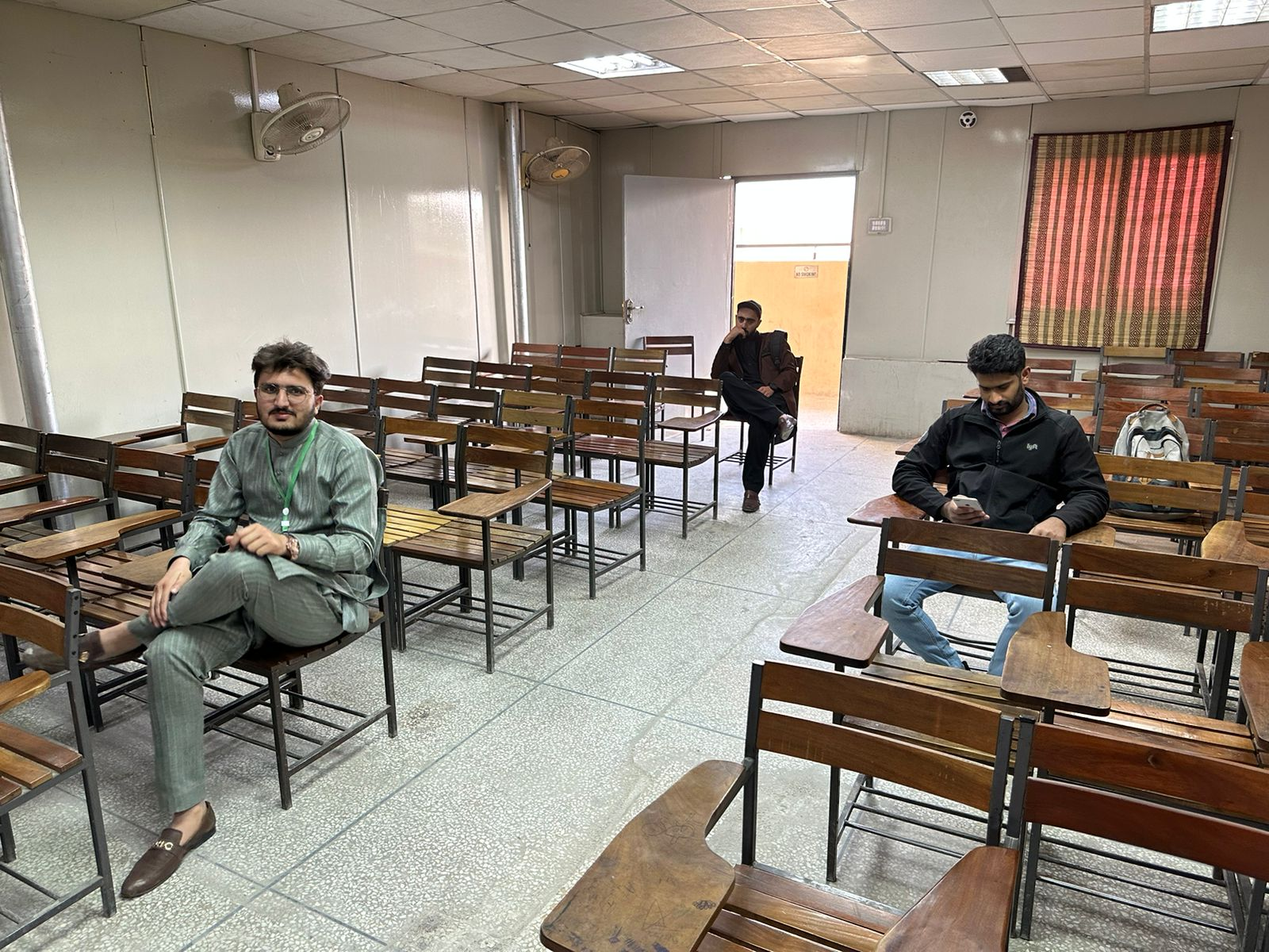non-cheating: (252, 339, 331, 437), (735, 299, 763, 337)
phone: (946, 494, 991, 526)
